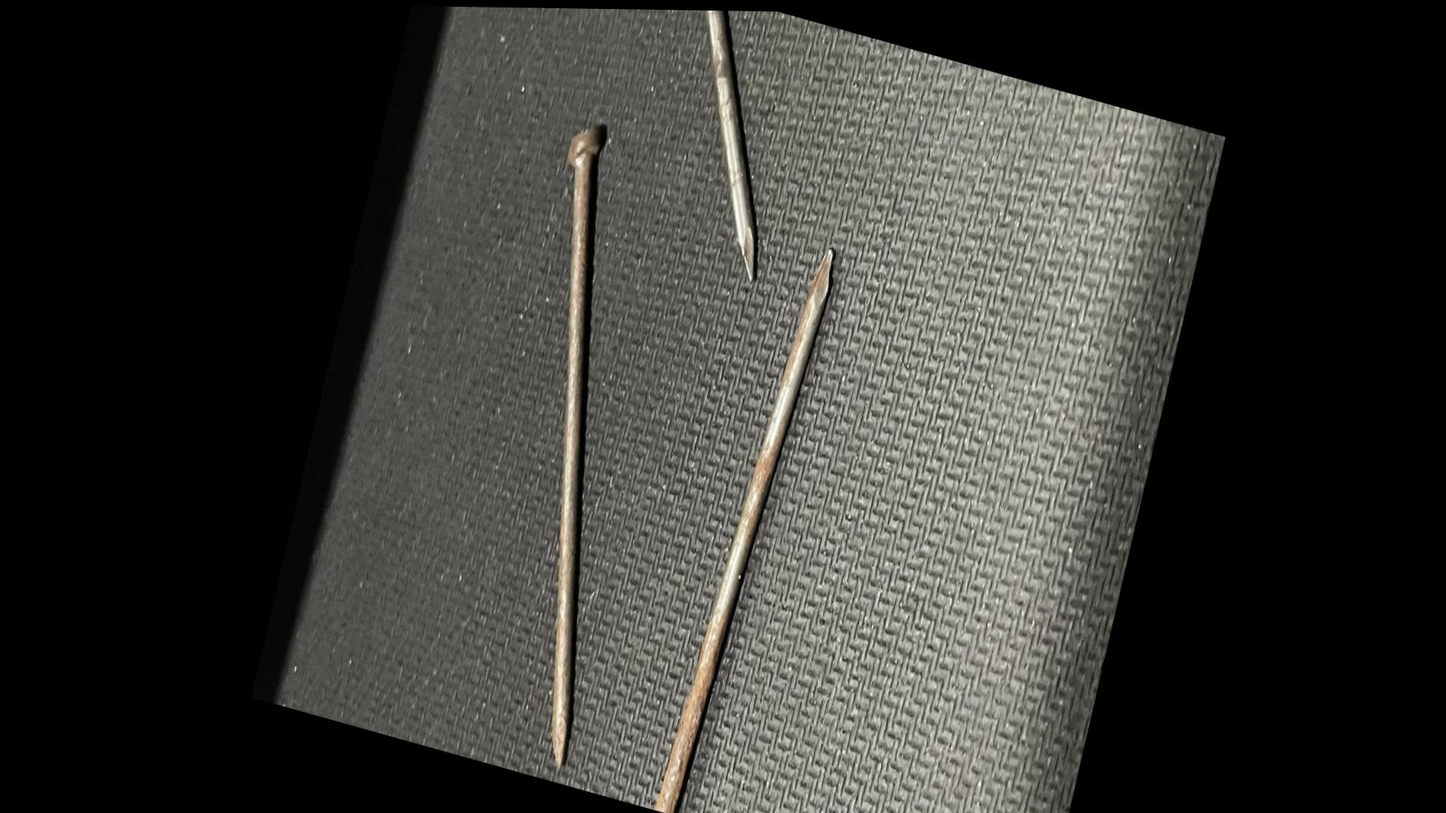nail: (393, 82, 730, 784), (604, 148, 906, 813), (541, 6, 823, 332)
